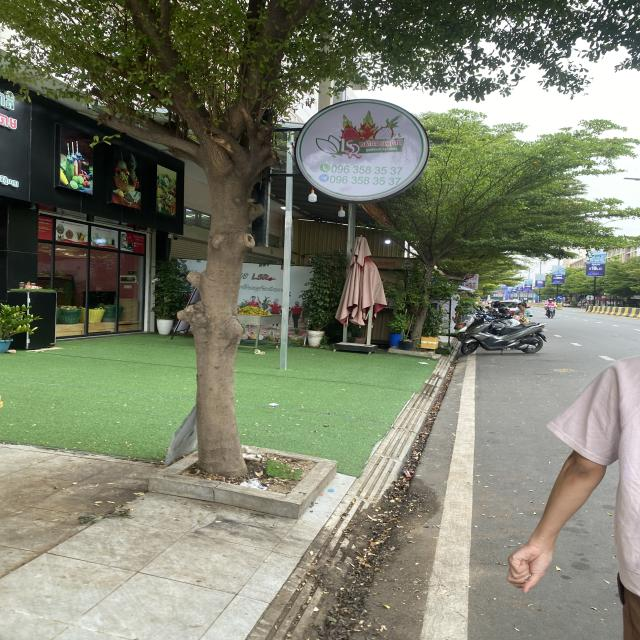1: (365, 147, 398, 152)
460: (327, 164, 406, 177), (328, 174, 403, 186)
Yolov11kh: (359, 137, 404, 149), (242, 283, 282, 293), (0, 174, 20, 188), (379, 260, 396, 268)
